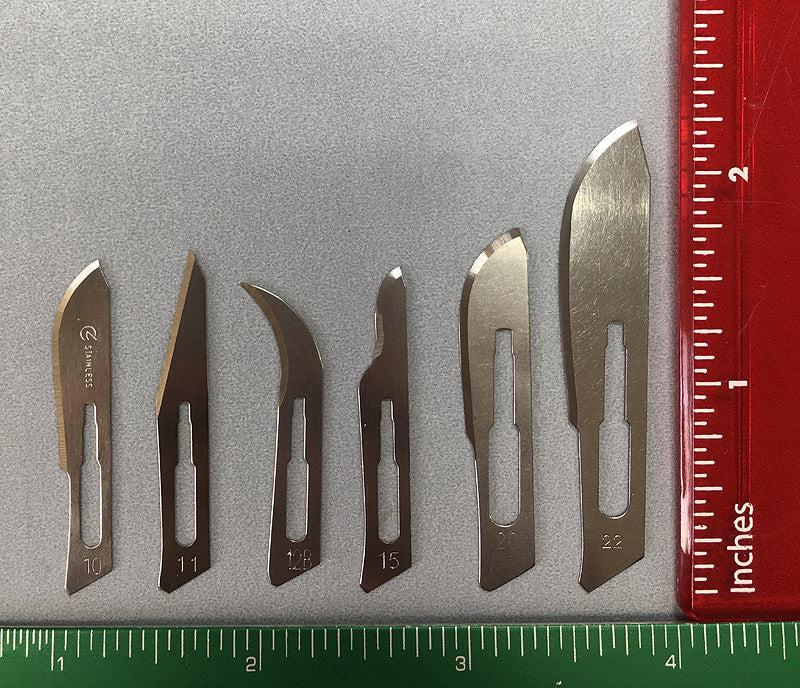Surgical blade: (560, 110, 658, 594), (457, 211, 542, 594), (41, 254, 128, 593), (237, 265, 327, 587), (340, 256, 420, 597), (149, 249, 222, 596)
